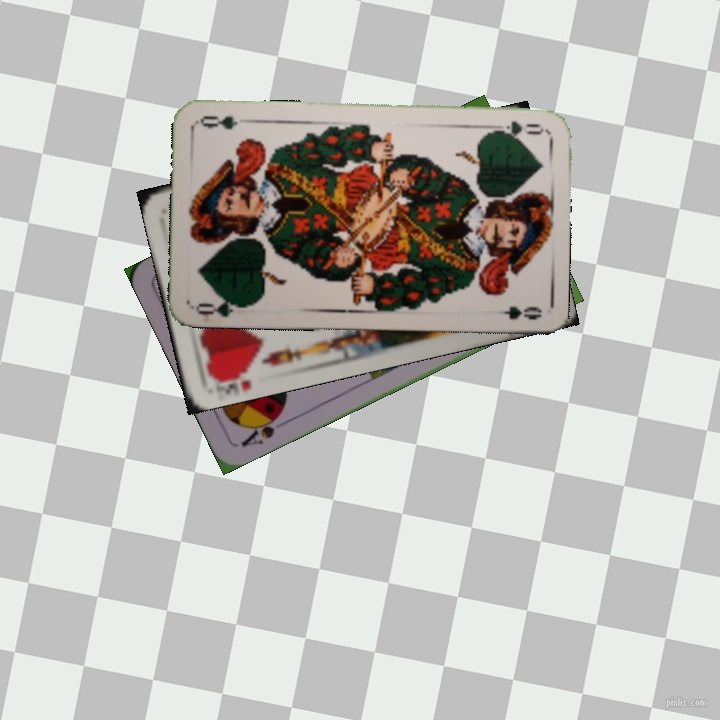GO: (193, 292, 252, 319), (487, 116, 546, 140)
HK: (206, 363, 256, 393)
SA: (237, 407, 286, 450)
